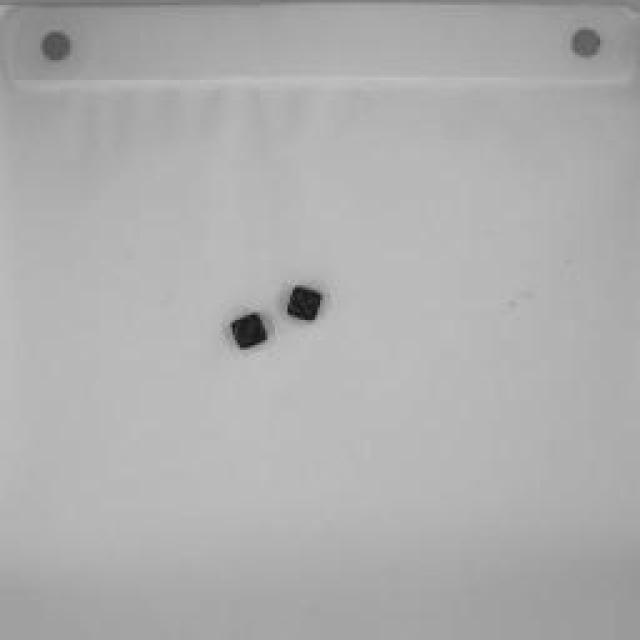dice_3: (229, 312, 271, 350)
dice_5: (286, 283, 326, 325)
